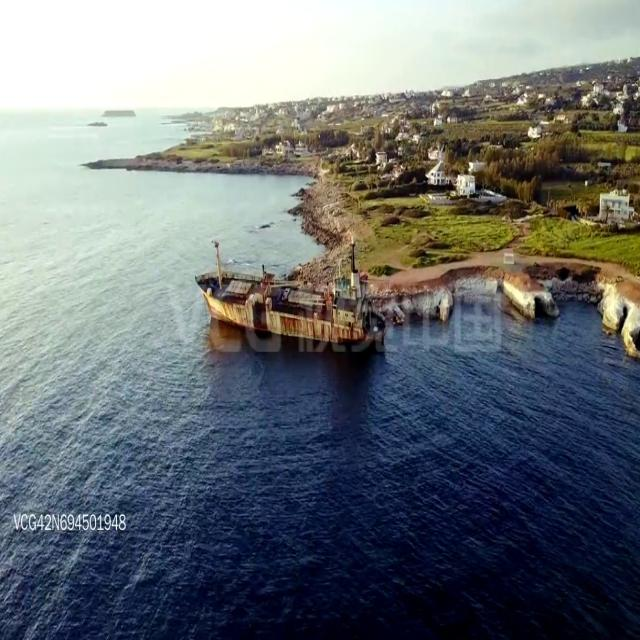cargoship: (192, 240, 387, 356)
